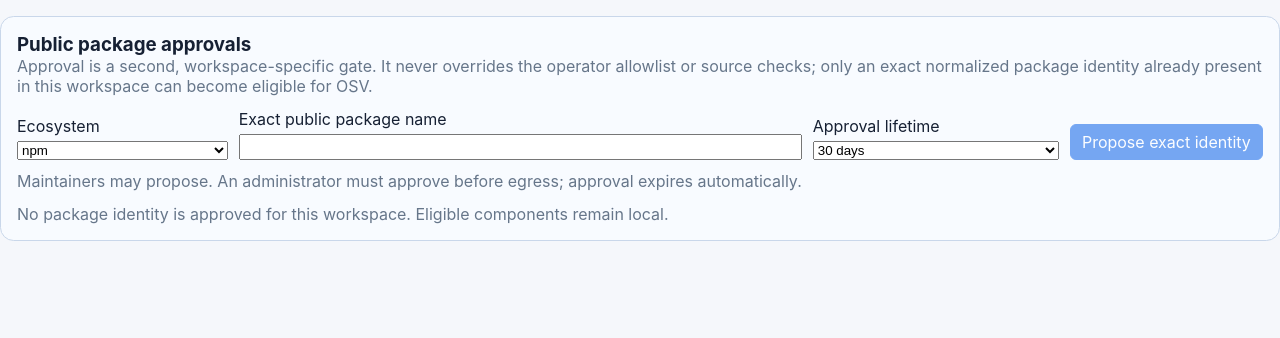
Test: PublicIdentityAttestationPanel › lets a maintainer propose an exact identity but never approve it
The width and height of the screenshot is (1280, 338).
Expected: the text "No package identity is approved" is shown, [17,204,669,224]
Select "PyPI" in the dropdown labelled "Ecosystem" at (123, 151), box [17,141,228,160]
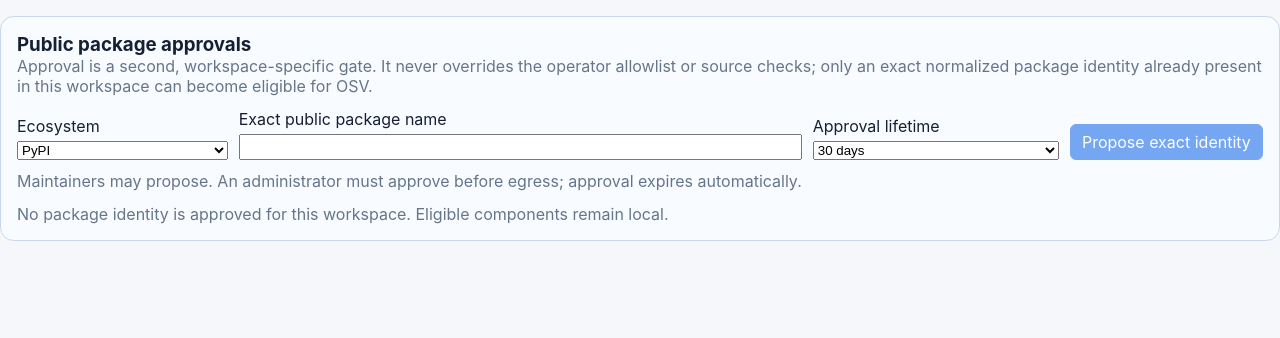
Type "Requests_Library" into the field labelled "Exact public package name" at (520, 147), box [239,134,802,160]
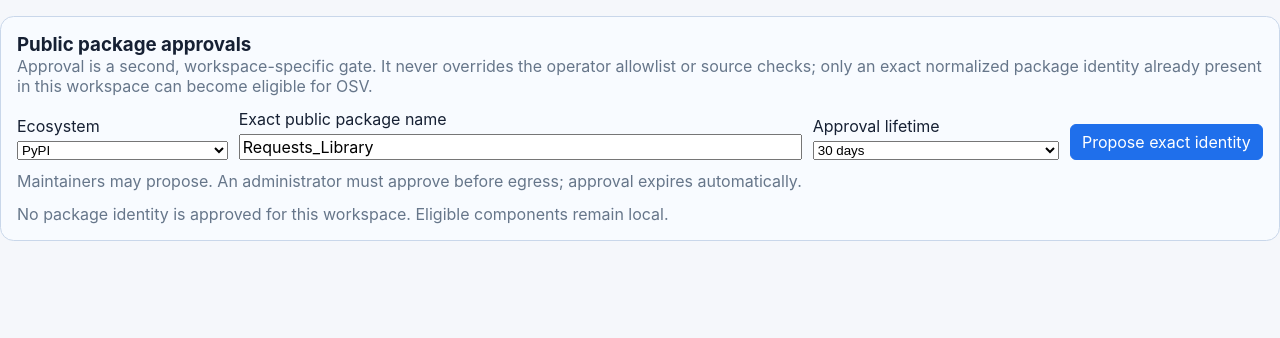
Select "30 days" in the dropdown labelled "Approval lifetime" at (936, 151), box [813,141,1059,160]
Click the button "Propose exact identity" at (1166, 142), box [1070,124,1263,160]
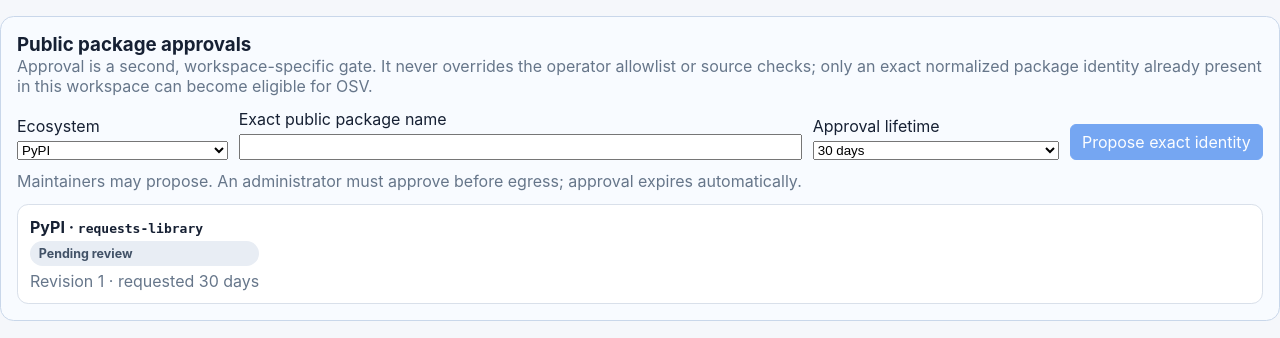
Result: the text "Pending review" is shown at [30,241,259,266]
